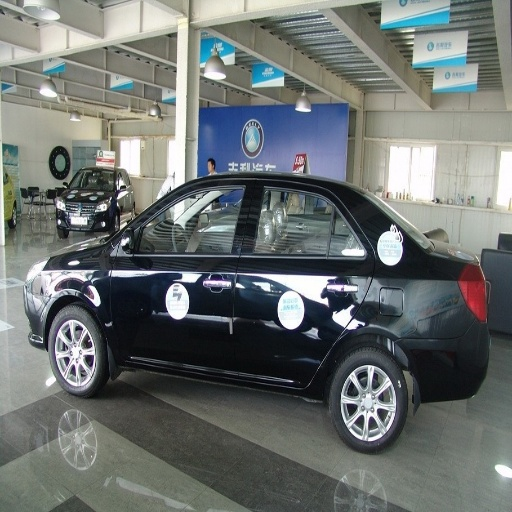back_bumper: (411, 339, 480, 400)
back_glass: (224, 54, 282, 86)
back_left_door: (235, 178, 368, 384)
front_left_door: (113, 180, 249, 367)
trunk: (224, 81, 320, 150)
